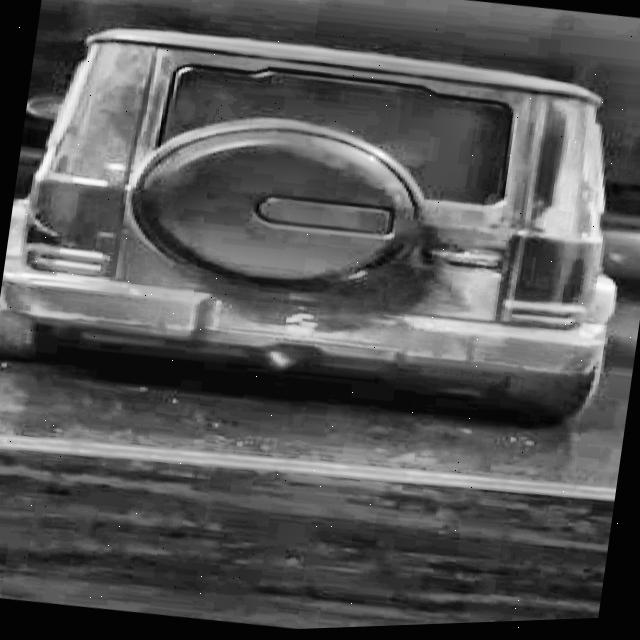light_vehicle: (0, 0, 639, 475)
